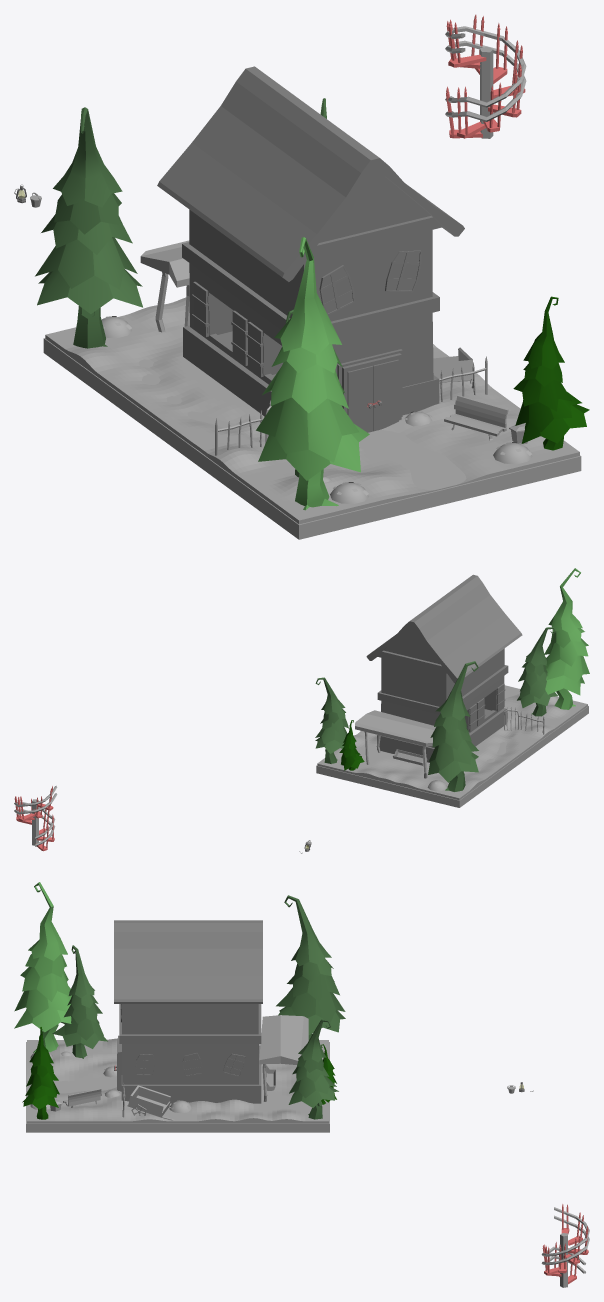
File: ecurie_v1.fbx
The picture shows the model from 3 angles, top to bottom: view 1: azimuth 30°, elevation 25°; view 2: azimuth 150°, elevation 25°; view 3: azimuth 270°, elevation 25°; orthographic projection. The views are drawn at different scales.
Parts seen in each view (by area): view 1: ecurie, sol29, sapin28, sapin27, sol10, Escalier2, sapin29, sol30, Abris_bois2, banc1, charette1, Buisson39 (+1 smaller); view 2: ecurie, sol29, sapin27, sapin28, sol10, Abris_bois2, sapin30, sapin32, Escalier2, sapin31; view 3: ecurie, sol29, sapin28, sapin27, sol10, sapin30, sapin32, Abris_bois2, Escalier2, sapin29, charette1, sol30.
Part boxes in pixels (box(x1,y1,x2,y2)): ecurie: box(157, 66, 464, 432); sol29: box(45, 297, 579, 524); sapin28: box(256, 237, 369, 510); sapin27: box(35, 107, 142, 348); sol10: box(43, 338, 581, 539); Escalier2: box(445, 14, 526, 138); sapin29: box(513, 296, 589, 450); sol30: box(359, 430, 472, 493); Abris_bois2: box(140, 240, 189, 332); banc1: box(444, 395, 508, 440); charette1: box(433, 347, 473, 388); Buisson39: box(330, 482, 368, 503); ecurie: box(366, 574, 522, 762); sol29: box(317, 685, 587, 800); sapin27: box(428, 661, 478, 791); sapin28: box(544, 568, 589, 709); sol10: box(316, 706, 588, 807); Abris_bois2: box(355, 710, 435, 778); sapin30: box(517, 627, 557, 716); sapin32: box(315, 677, 348, 763); Escalier2: box(14, 785, 57, 851); sapin31: box(339, 720, 364, 770); ecurie: box(114, 920, 262, 1103); sol29: box(27, 1038, 328, 1123); sapin28: box(14, 882, 71, 1052); sapin27: box(276, 895, 345, 1040); sol10: box(26, 1042, 329, 1132); sapin30: box(52, 945, 107, 1058); sapin32: box(288, 1019, 338, 1119); Abris_bois2: box(259, 1015, 308, 1101); Escalier2: box(541, 1204, 589, 1287); sapin29: box(22, 1027, 59, 1119); charette1: box(127, 1085, 174, 1120); sol30: box(27, 1076, 116, 1093).
Size of the model in its own units: 1978 by 1014 by 2375.
